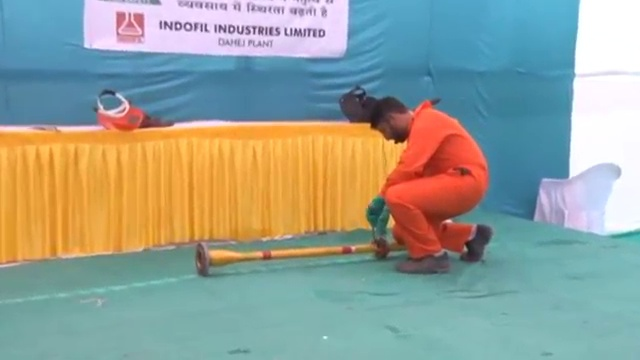helmet_off: (370, 96, 409, 146)
person: (368, 90, 488, 269)
